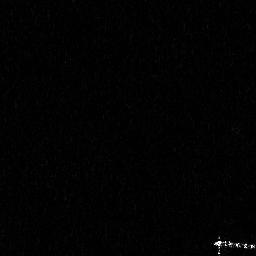ship: (211, 233, 256, 255)
